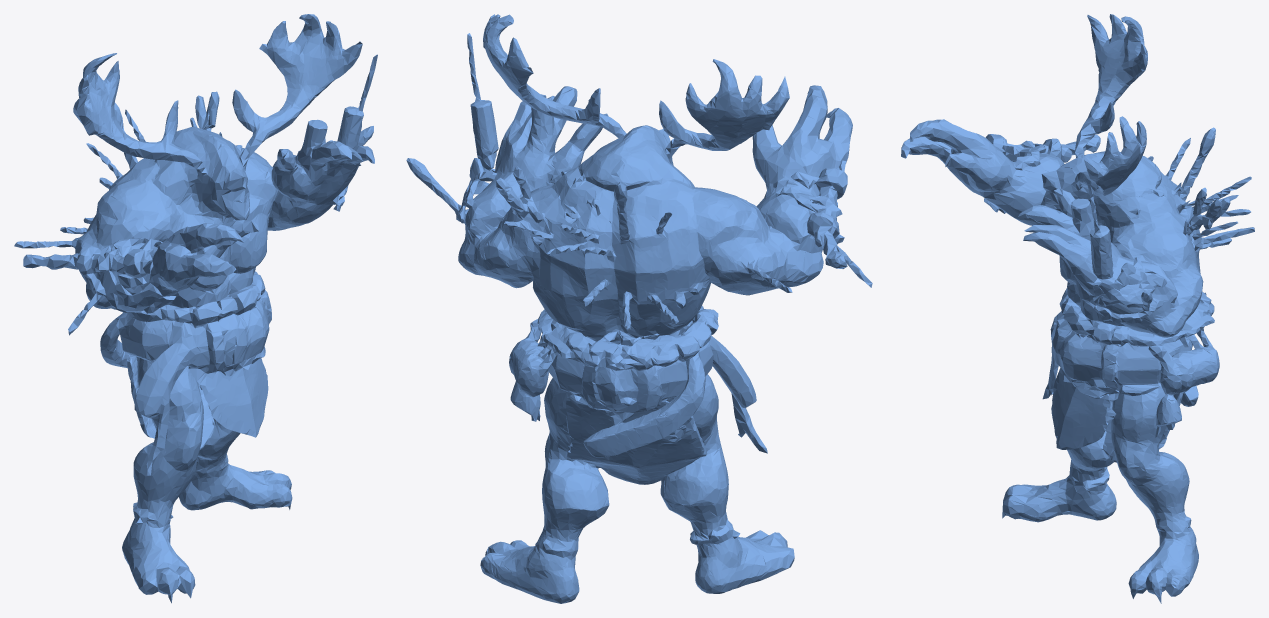
Rendered from animated_mesh.glb.
The picture shows the model from 3 angles, left to right: view 1: azimuth 30°, elevation 25°; view 2: azimuth 150°, elevation 25°; view 3: azimuth 270°, elevation 25°; orthographic projection. The views are drawn at different scales.
Parts seen in each view (by area): view 1: AnimatedMesh; view 2: AnimatedMesh; view 3: AnimatedMesh.
Part boxes in pixels (x1=…): AnimatedMesh: x1=14, y1=14, x2=377, y2=603; AnimatedMesh: x1=406, y1=14, x2=872, y2=603; AnimatedMesh: x1=901, y1=14, x2=1254, y2=603.
Bounding box in the file's own units: 1.47 × 1.88 × 1.22.
